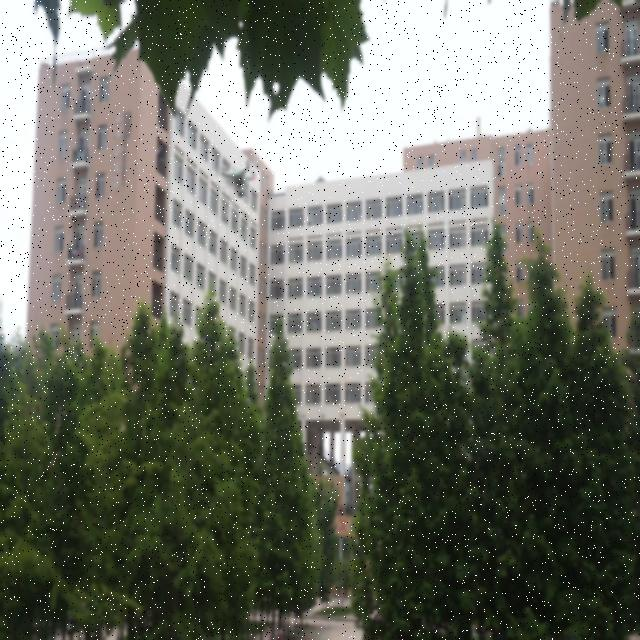UAV: (210, 156, 262, 204)
